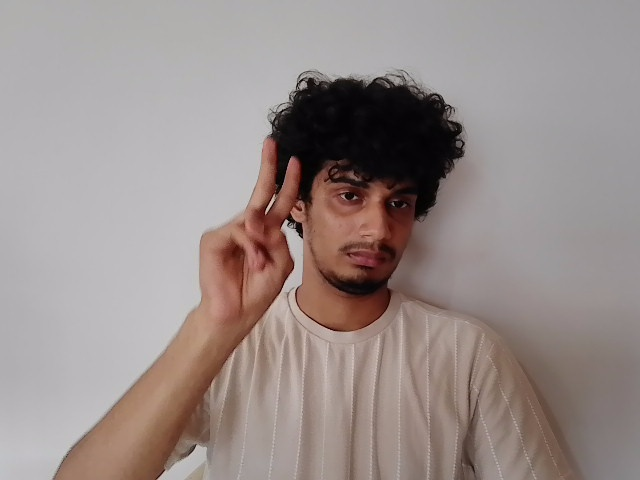travel: (191, 137, 311, 316)
